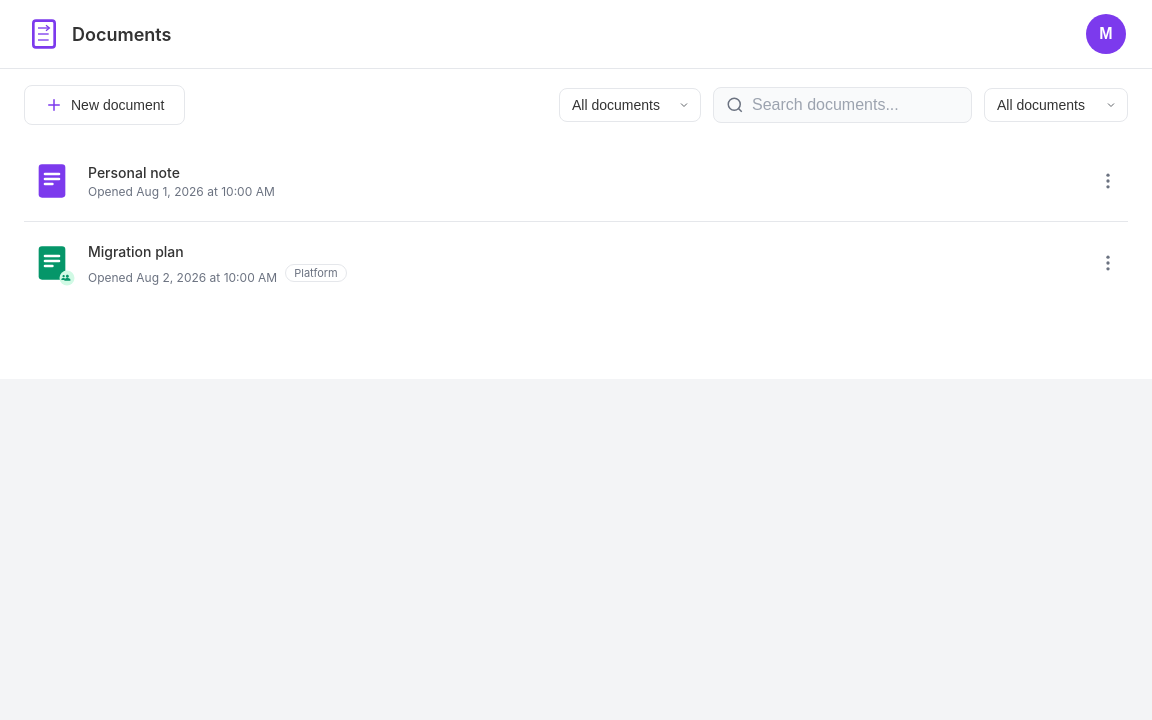
Test: DocList — spaces › surfaces the server's refusal verbatim when creation fails
The image size is (1152, 720).
Step 1. Select "+ New space…" in the dropdown named "Space" → (630, 105), box [559, 88, 701, 122]
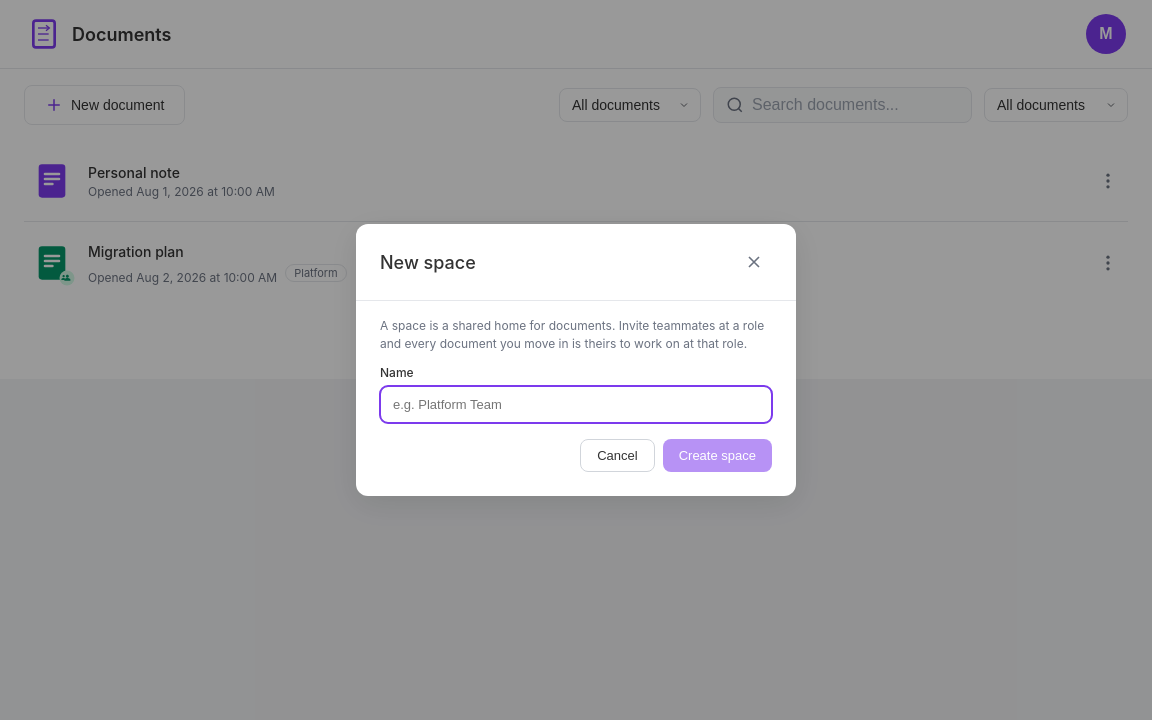
Step 2. Type "   x" into the field labelled "Name" → (576, 404), box [380, 386, 772, 423]
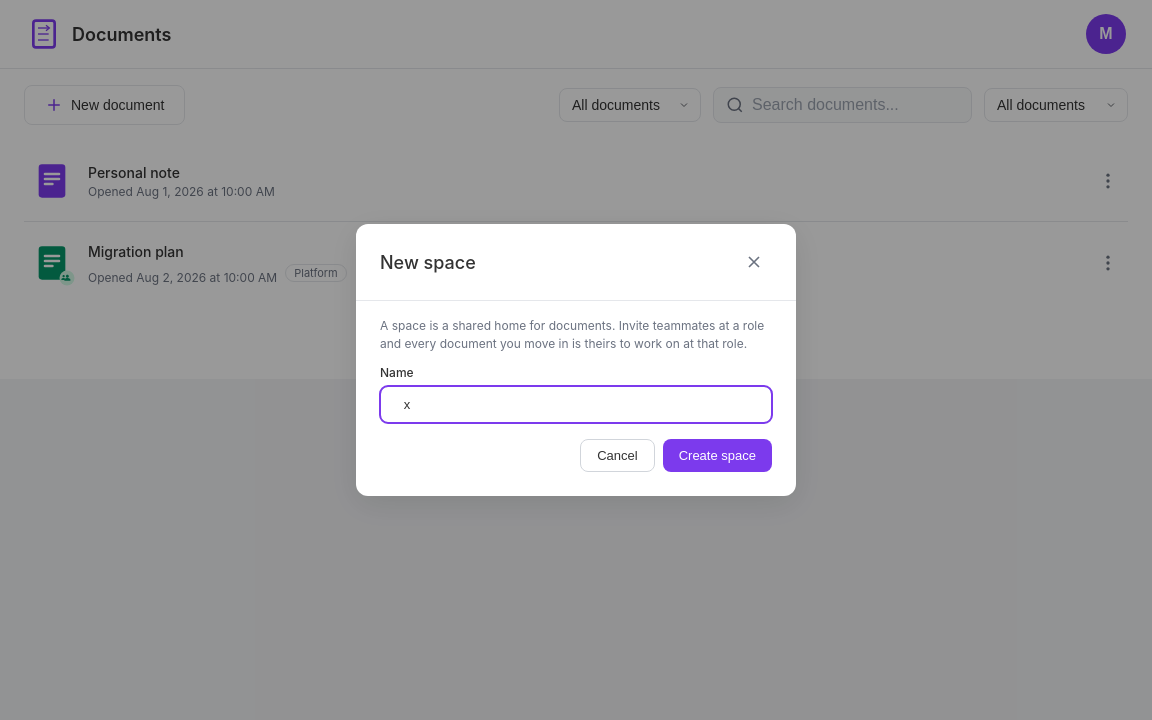
Step 3. Click the button "Create space" → (717, 456), box [663, 439, 772, 472]
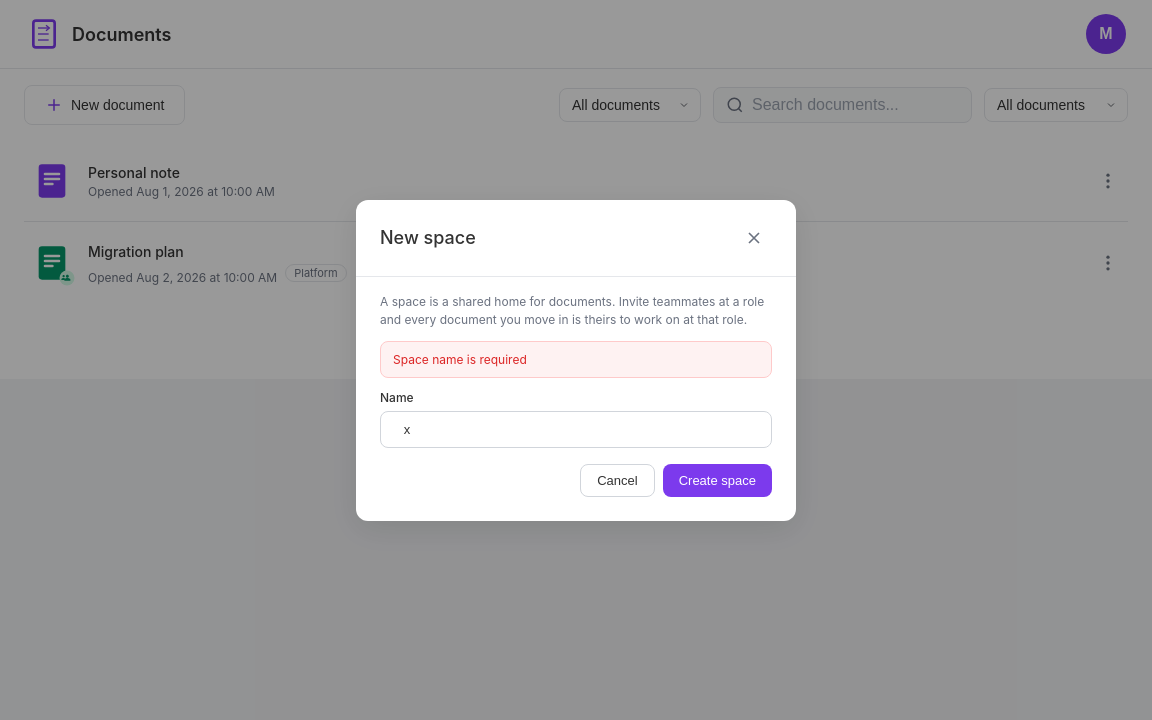
Check: the heading "New space" is shown, box [380, 227, 476, 248]
Check: the text "Space name is required" is shown, box [380, 340, 772, 378]
